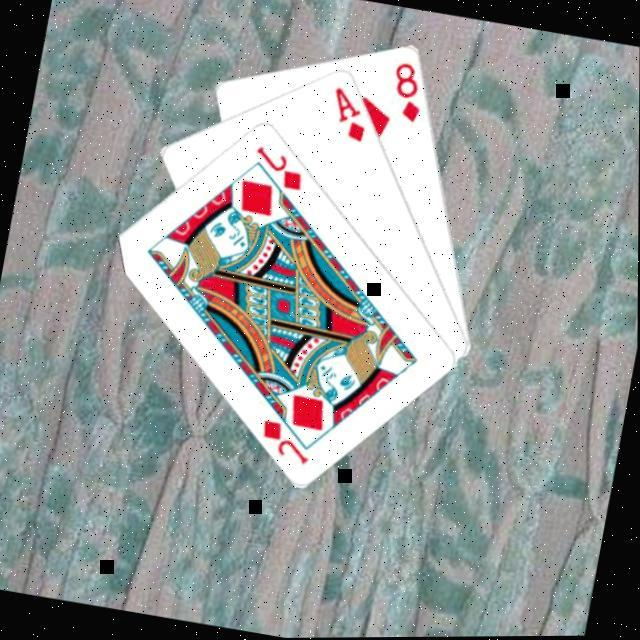8D: (382, 58, 431, 128)
AD: (321, 84, 374, 148)
JD: (244, 143, 310, 196), (252, 416, 317, 469)
